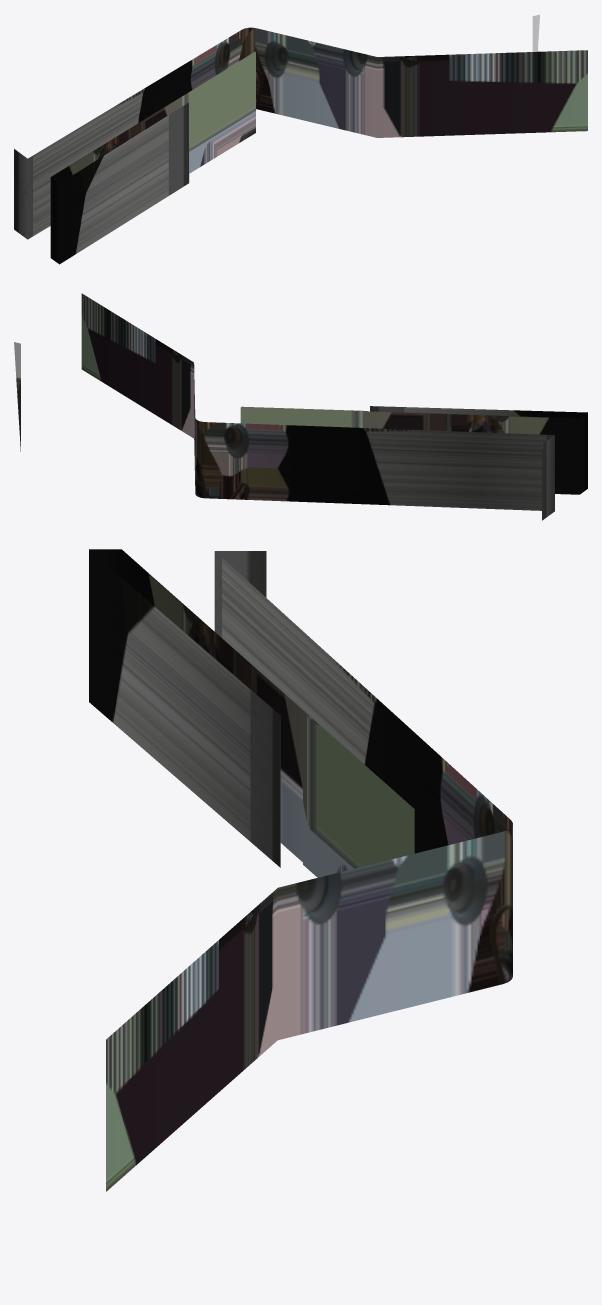
The model's file is apronWalls.fbx.
3 renders of one model, top to bottom at view 1: azimuth 30°, elevation 25°; view 2: azimuth 150°, elevation 25°; view 3: azimuth 270°, elevation 25°, orthographic. The views are drawn at different scales.
Parts seen in each view (by area): view 1: apronWalls; view 2: apronWalls; view 3: apronWalls.
Part boxes in pixels (bbox=[...]): apronWalls: bbox=[14, 14, 587, 264]; apronWalls: bbox=[14, 293, 587, 520]; apronWalls: bbox=[89, 549, 512, 1191].
Bounding box in the file's own units: 45.63 × 10.49 × 16.33.
Materials: 1 (1 with a texture image).
